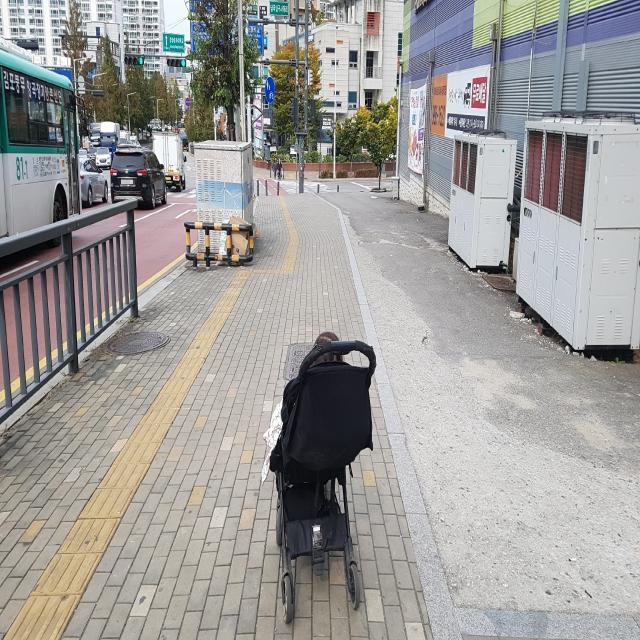횡단보도: (272, 178, 332, 194)
